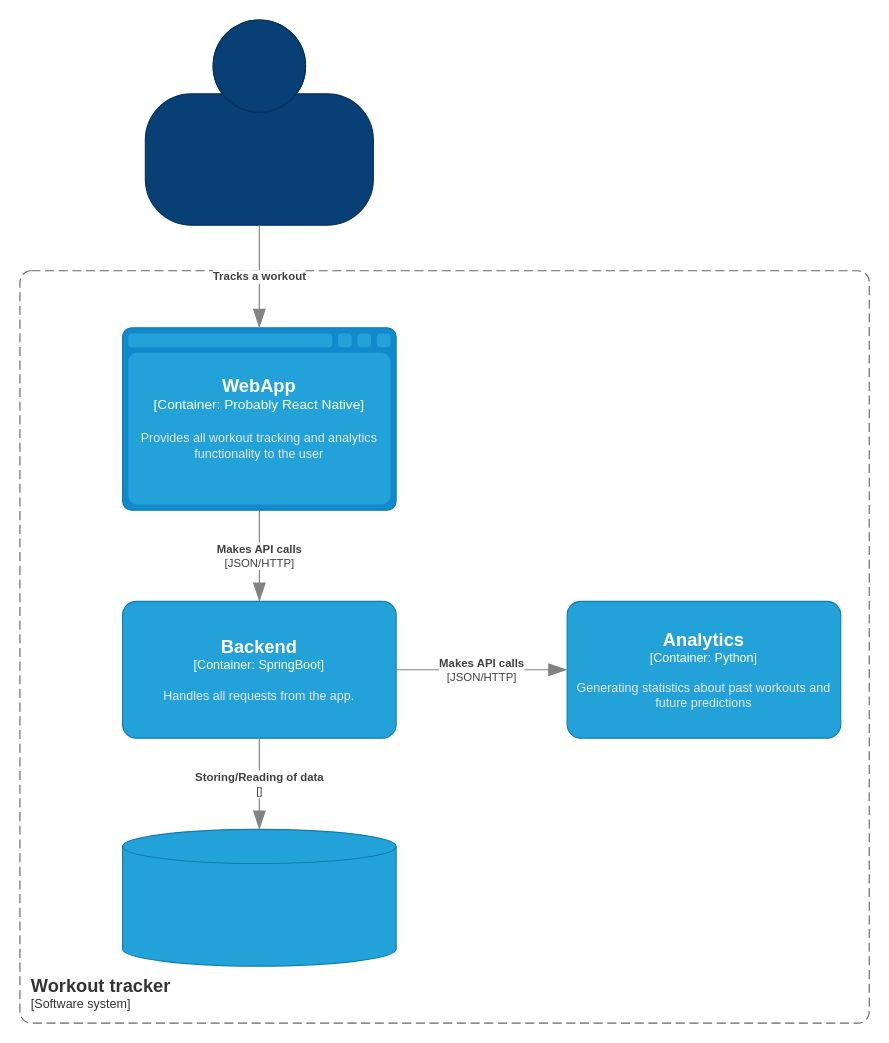
Image size: 889x1043. Some labels were removed from this diagram. The shapes that lost their labels are listed below. From the top down, each one's centre as x and y in pixels, then its label:
the point at 258,122: App User [Person] User who wants to track workouts and view progress
the point at 258,897: NoSql DB [Container: MongoDB] Storing of workout data.
